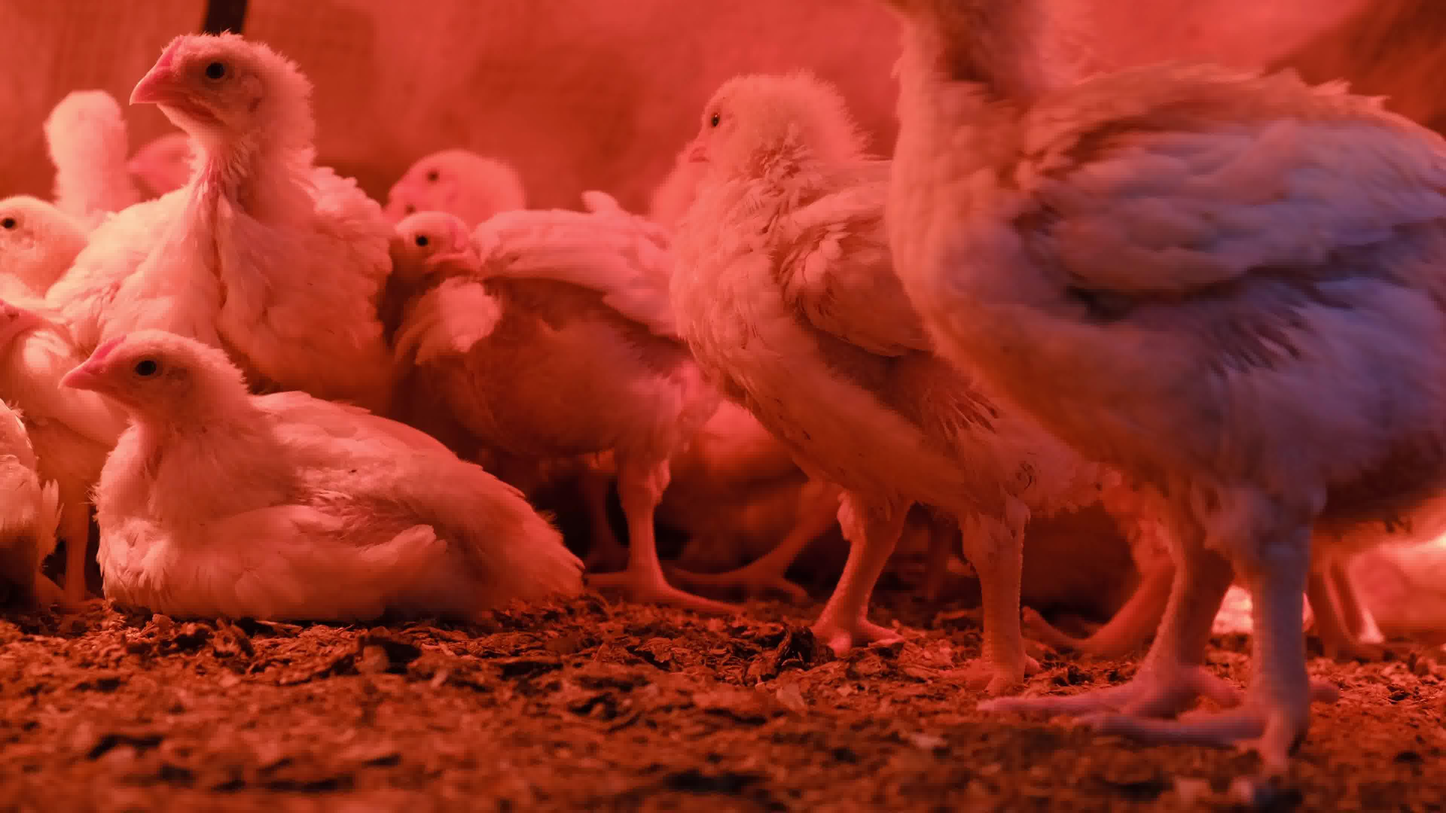AbNormal: (58, 326, 599, 642), (0, 277, 96, 674)
Normal: (860, 0, 1442, 813), (604, 51, 1086, 696), (448, 149, 768, 621), (75, 0, 382, 352), (0, 169, 126, 339), (24, 75, 156, 215), (373, 130, 537, 237), (378, 188, 503, 312), (102, 119, 224, 207)
